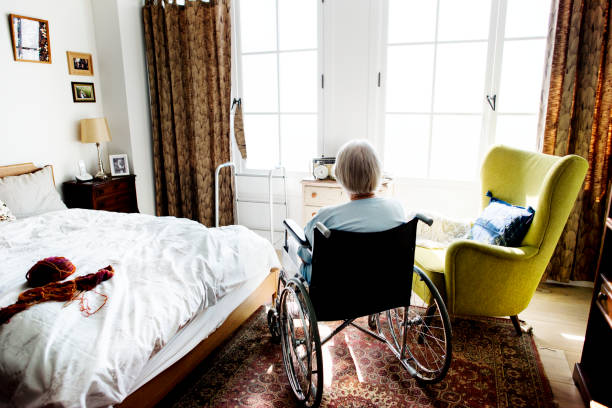wheel_chair: (263, 212, 459, 407)
